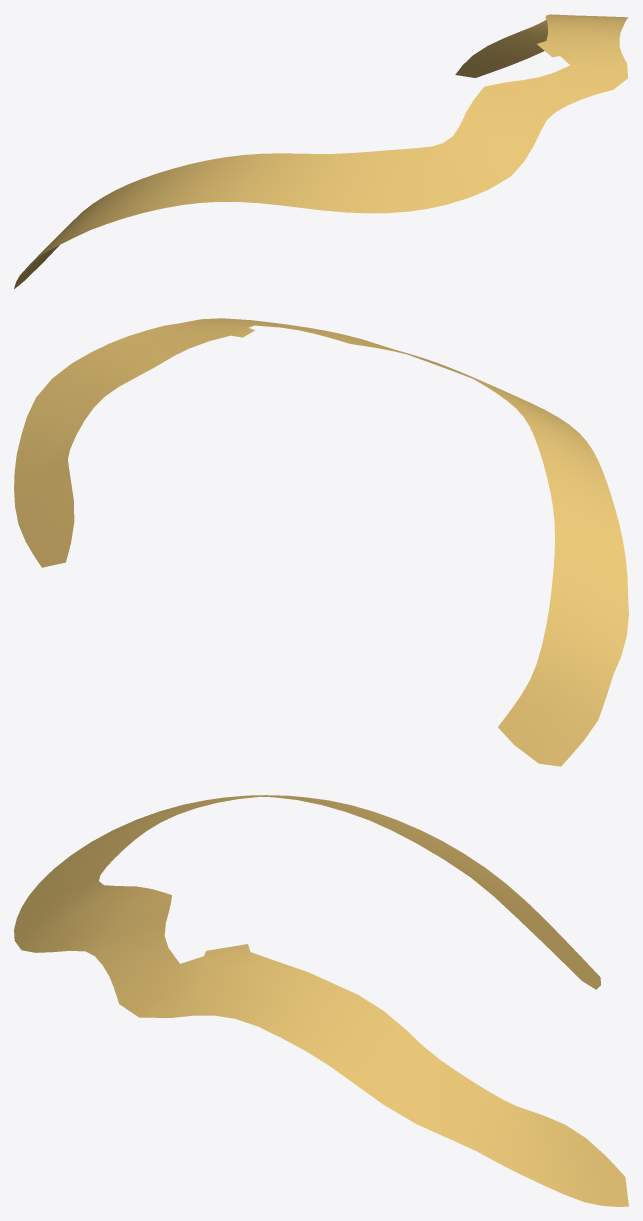
Rendered from MoonBasePathFix.fbx.
The picture shows the model from 3 angles, top to bottom: view 1: azimuth 30°, elevation 25°; view 2: azimuth 150°, elevation 25°; view 3: azimuth 270°, elevation 25°; orthographic projection. The views are drawn at different scales.
Parts seen in each view (by area): view 1: Floating Island Path; view 2: Floating Island Path; view 3: Floating Island Path.
Boxes of the visible parts, x1,y1,x2,y2 form: Floating Island Path: [14, 14, 628, 288]; Floating Island Path: [14, 318, 628, 766]; Floating Island Path: [14, 795, 628, 1206].
Size of the model in its own units: 119 by 45.28 by 73.87.
